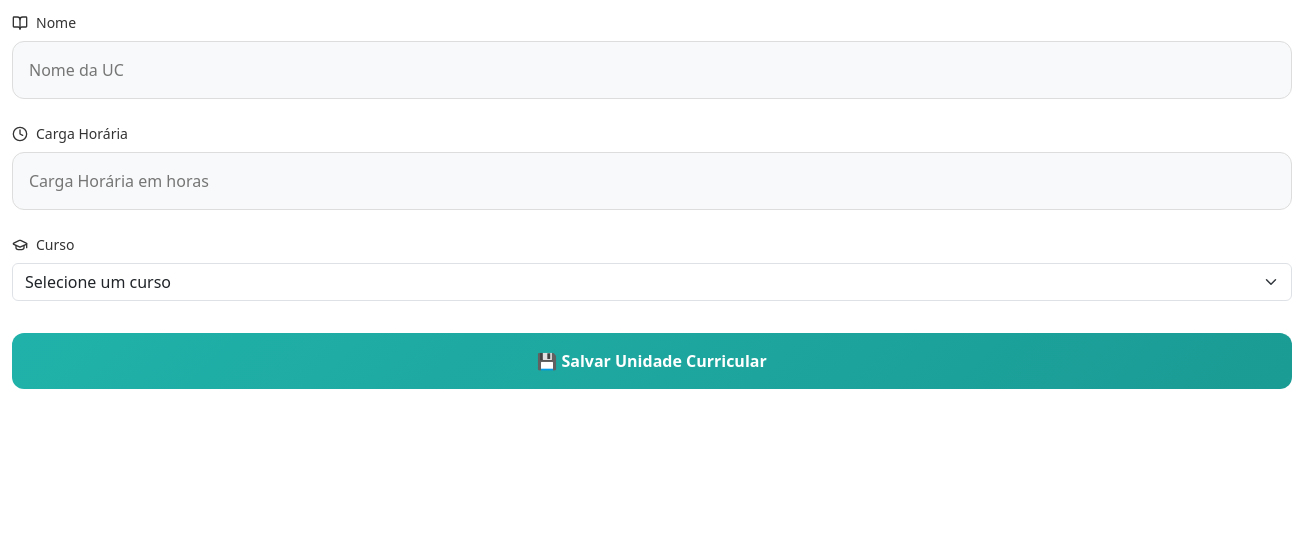
Test: UcsRegistrationForm › valida campos obrigatórios
This screenshot has width=1304, height=546.
Click the button "💾 Salvar Unidade Curricular" at (652, 361), box [12, 333, 1292, 389]
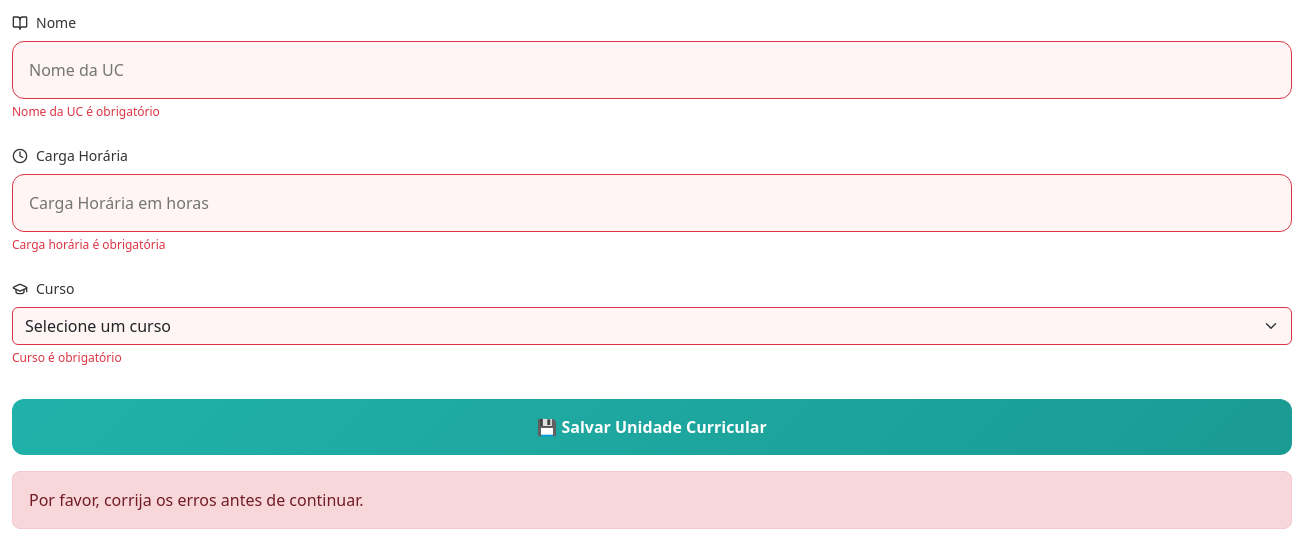
Check: the text "Nome da UC é obrigatório" is shown, box [12, 103, 160, 120]
Check: the text "Carga horária é obrigatória" is shown, box [12, 236, 166, 253]
Check: the text "Curso é obrigatório" is shown, box [12, 349, 122, 366]
